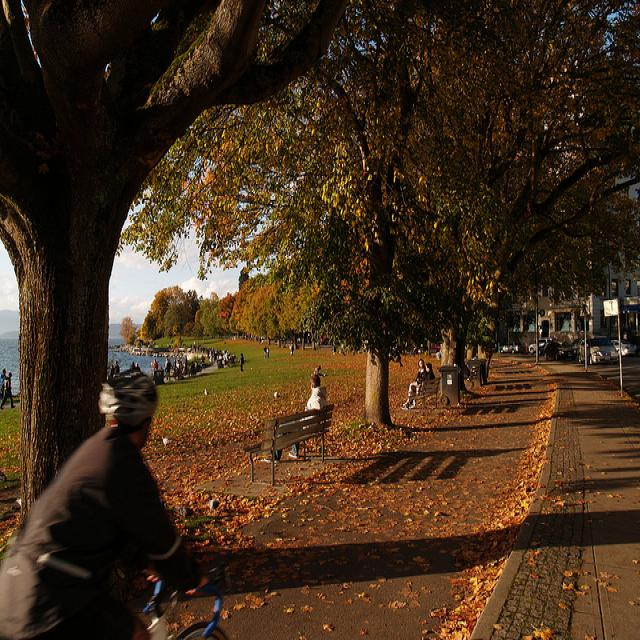Vehicle: (578, 335, 618, 365), (543, 340, 577, 361), (528, 338, 560, 355), (611, 340, 632, 360), (499, 341, 527, 355)
